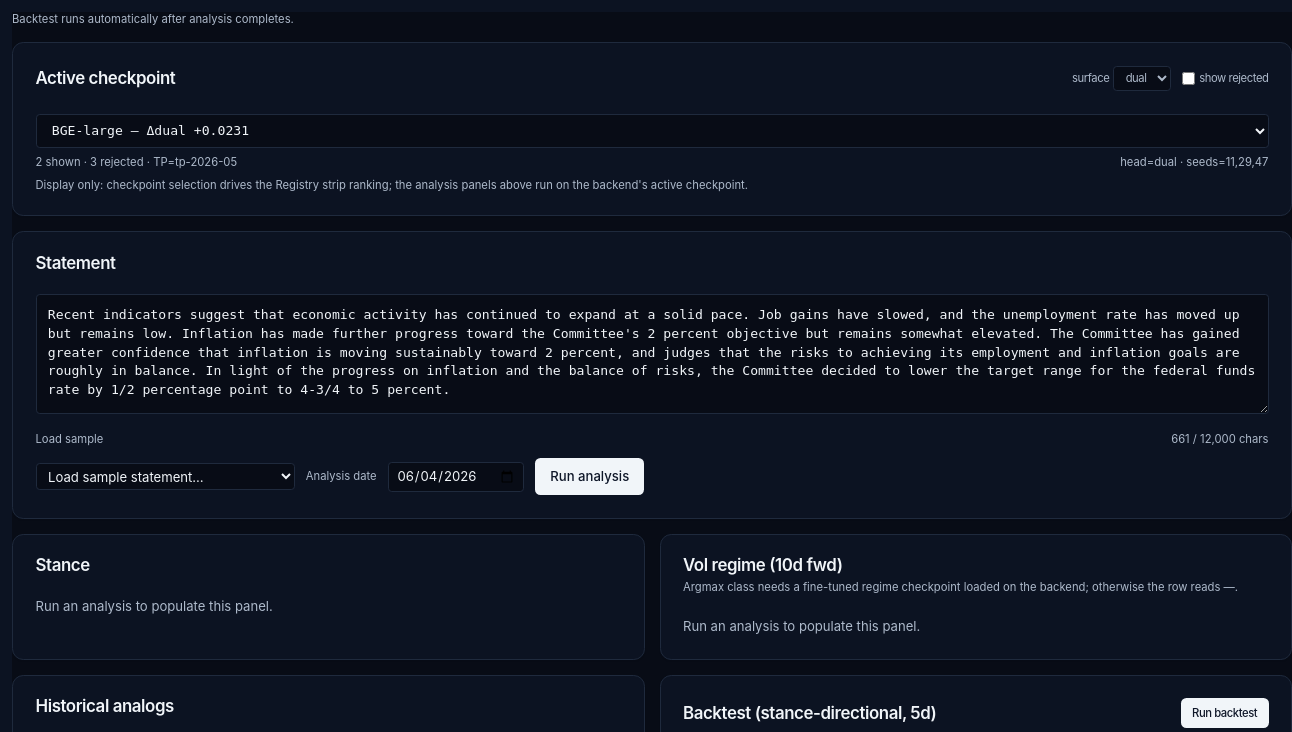
Test: TerminalTab › surfaces an error when postAnalyze rejects and clears the running state
Click the button "Run analysis" at (590, 477), box [535,458,644,495]
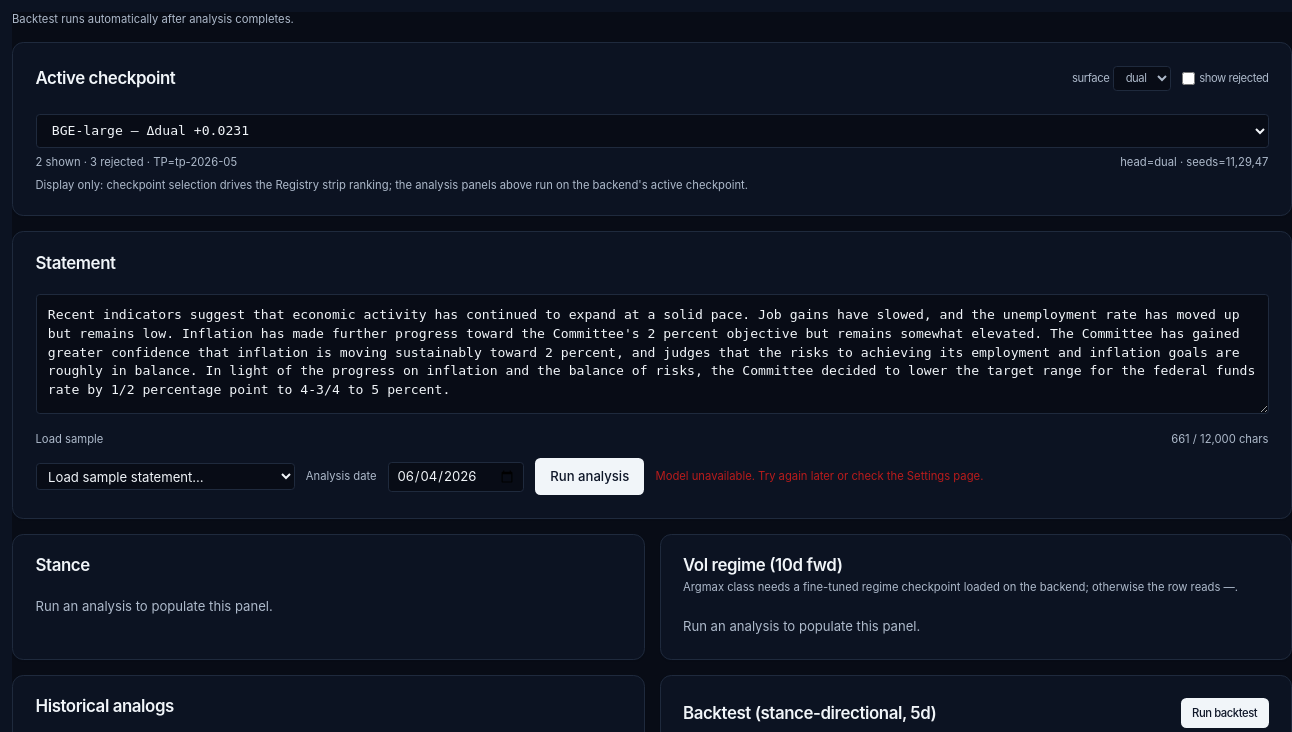
Expected: the message shows "Model unavailable", [656,469,983,483]
